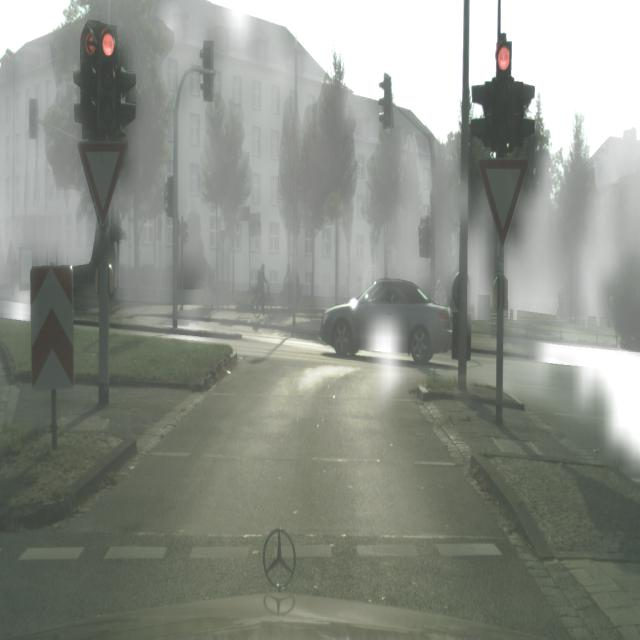person: (255, 262, 268, 314)
truck: (320, 278, 452, 363)
